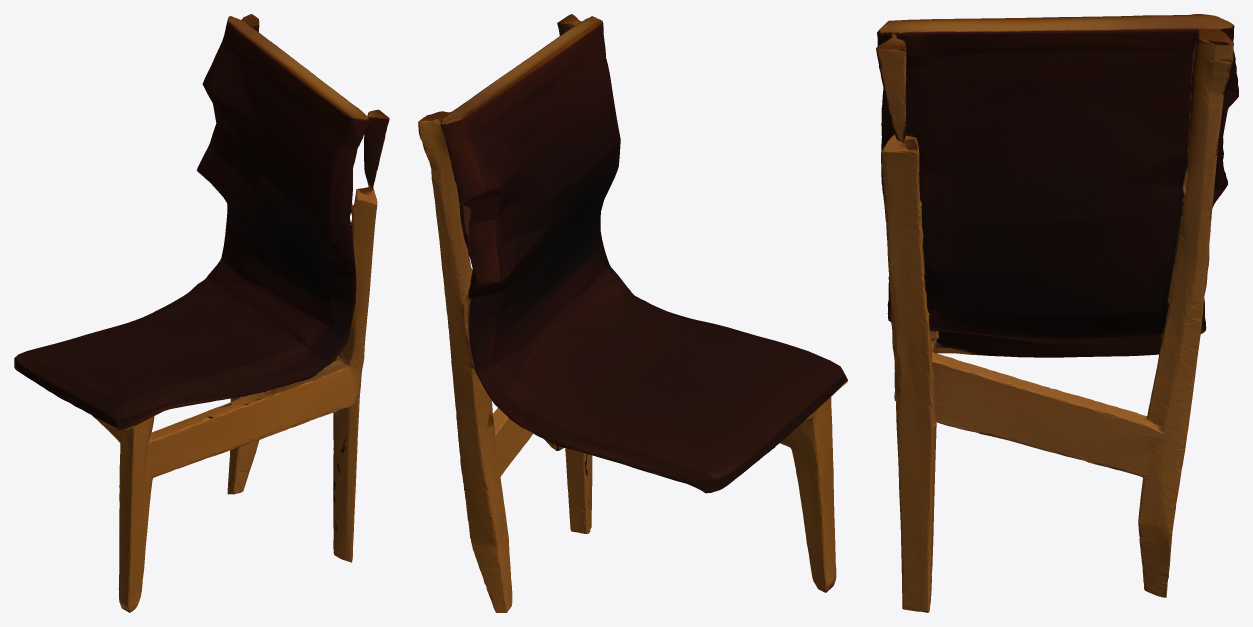
File: hunyuan3d_textured.obj
3 views of the same model, side by side, from view 1: azimuth 30°, elevation 25°; view 2: azimuth 150°, elevation 25°; view 3: azimuth 270°, elevation 25° (orthographic). The views are drawn at different scales.
Visible parts, largest first — view 1: hunyuan3d_textured; view 2: hunyuan3d_textured; view 3: hunyuan3d_textured.
Boxes of the visible parts, bbox=[...] form: hunyuan3d_textured: bbox=[14, 14, 389, 612]; hunyuan3d_textured: bbox=[418, 14, 847, 612]; hunyuan3d_textured: bbox=[876, 14, 1238, 612].
Bounding box in the file's own units: 1.19 × 1.98 × 1.1.
Materials: 1 (1 with a texture image).
